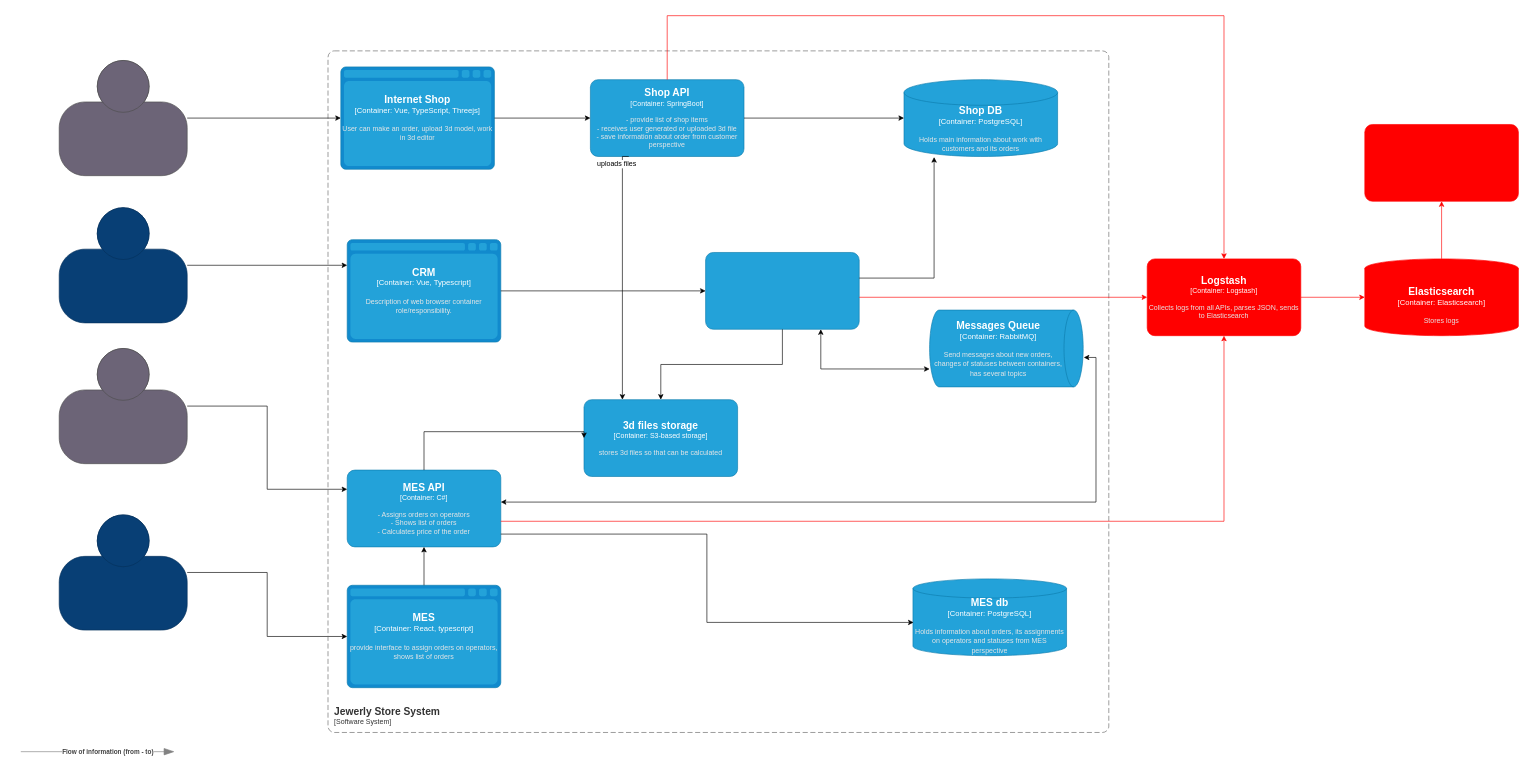
Image size: 1530x773. Some labels were removed from this diagram. Here are the shapes that lost their labels. From the top down, the centre of each, then its label:
[123,118]: Customer [Person] Description of external person.
[1441,162]: Kibana [Container: Kibana] Web UI for searching logs, dashboards, filters
[123,265]: Seller [Person] Operates with order, confirms manufacturing for the user
[782,290]: CRM API [Container: SpringBoot] Description of container role/responsibility.
[123,406]: API user [Person] Description of external person.
[123,572]: Operator [Person] Takes order in work, manufactures jewerly
